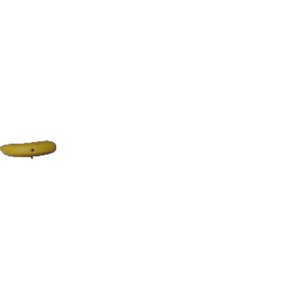banana: (1, 135, 58, 162)
